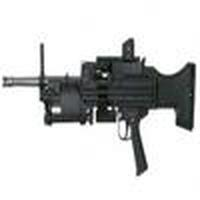gun: (3, 55, 197, 146)
